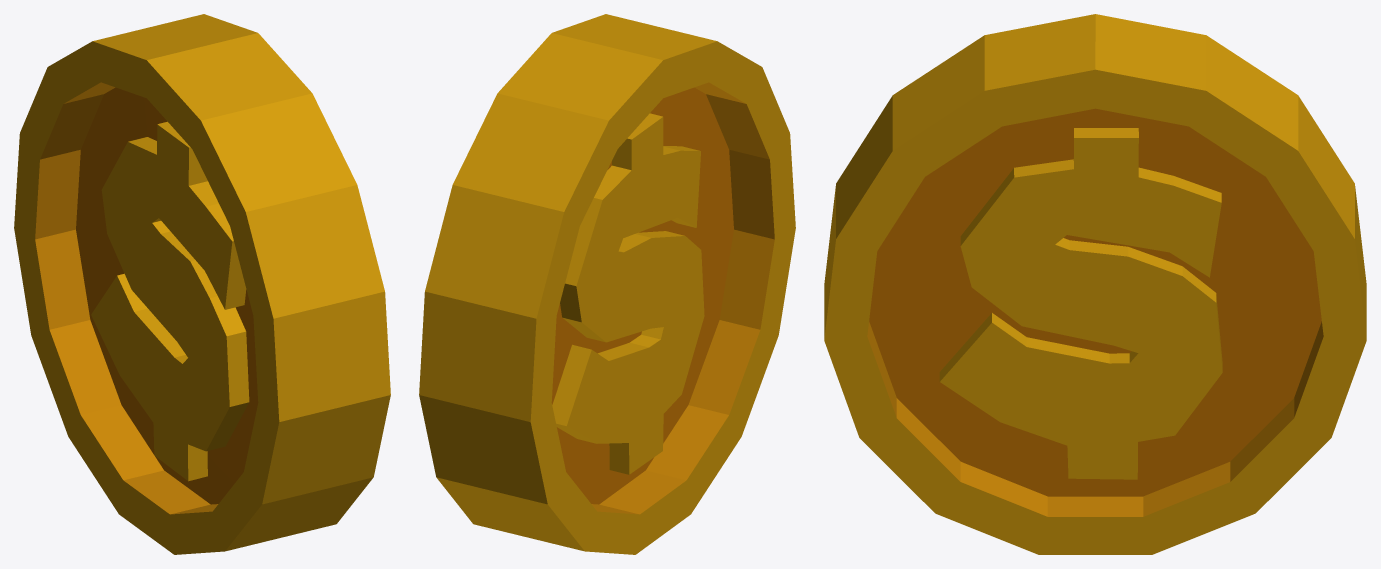
Rendered from Coin.fbx.
3 views of the same model, side by side, from view 1: azimuth 30°, elevation 25°; view 2: azimuth 150°, elevation 25°; view 3: azimuth 270°, elevation 25° (orthographic). The views are drawn at different scales.
Visible parts, largest first — view 1: Cylinder.001; view 2: Cylinder.001; view 3: Cylinder.001.
Part boxes in pixels (x1,y1,x2,y2): Cylinder.001: (14, 14, 390, 554); Cylinder.001: (419, 14, 795, 554); Cylinder.001: (824, 14, 1366, 554).
Size of the model in its own units: 48.33 by 196 by 199.
